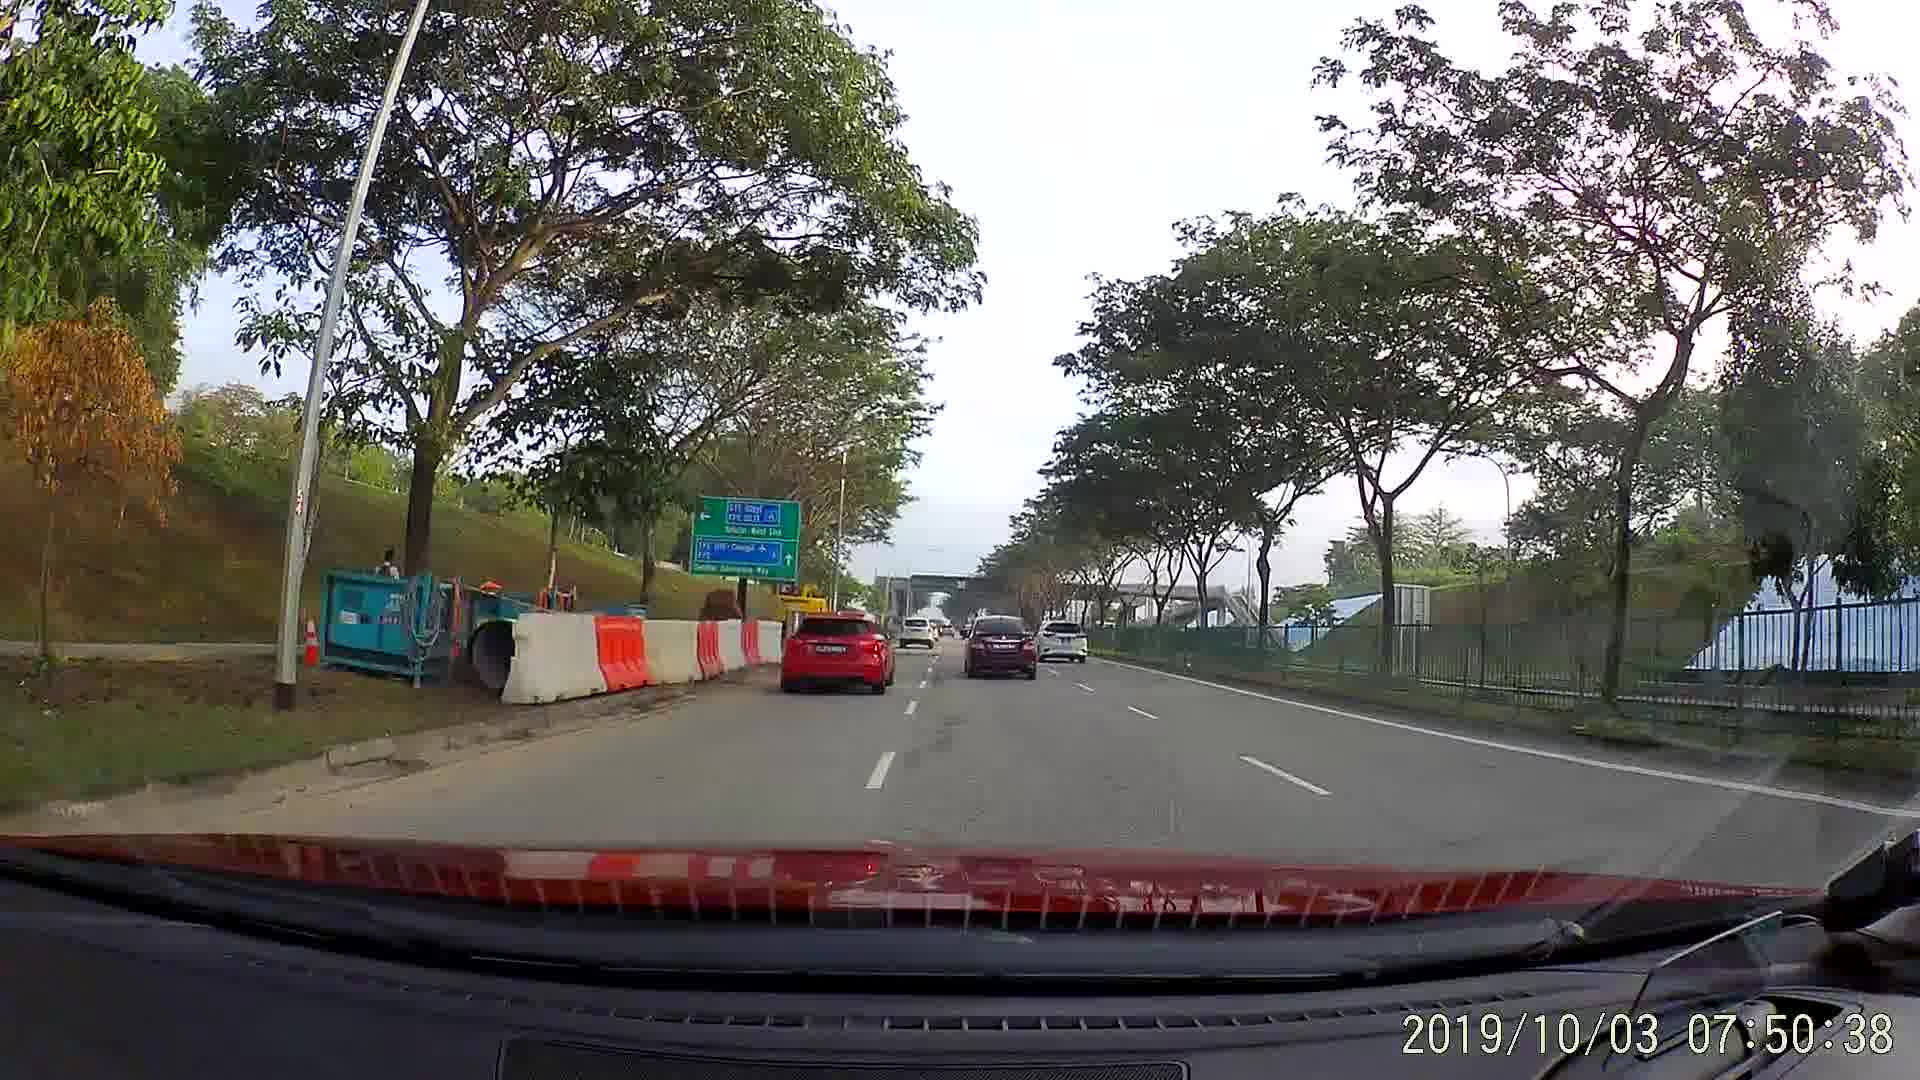car: (779, 611, 897, 696), (963, 617, 1040, 680), (1033, 618, 1087, 662), (897, 615, 942, 649)
